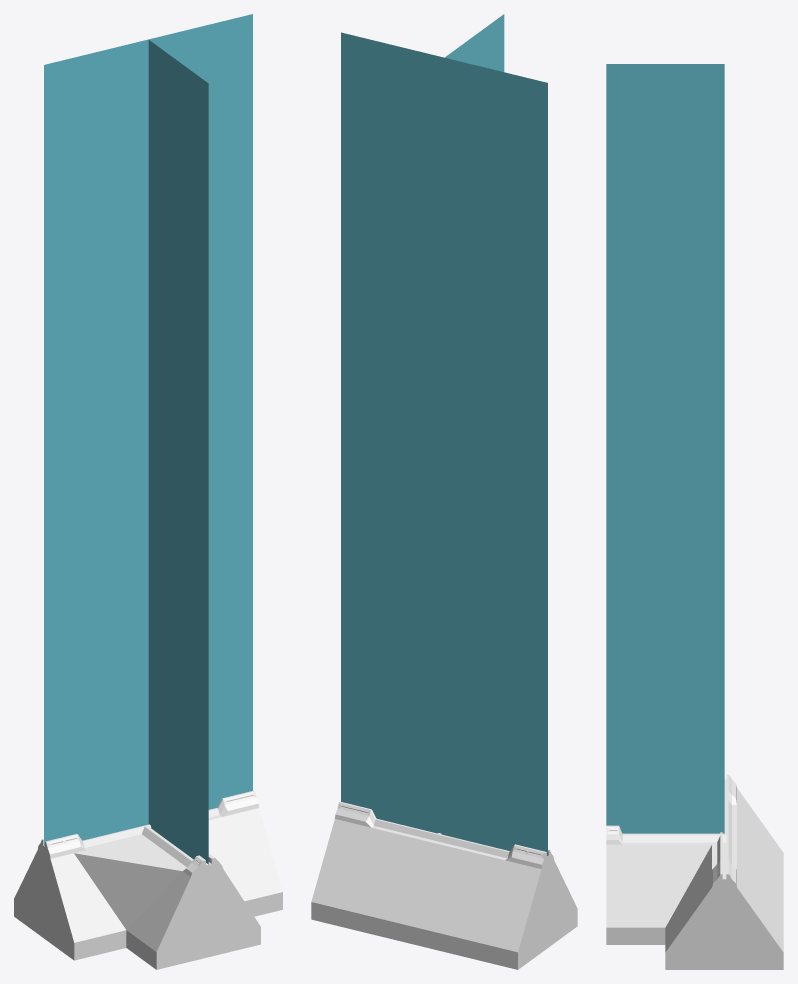
File: fence.glb
3 renders of one model, left to right at view 1: azimuth 30°, elevation 25°; view 2: azimuth 150°, elevation 25°; view 3: azimuth 270°, elevation 25°, orthographic. The views are drawn at different scales.
Visible parts, largest first — view 1: FenceCorner, Fence; view 2: Fence, FenceCorner; view 3: FenceCorner, Fence.
Boxes of the visible parts, left/top/right/bottom form: FenceCorner: left=14, top=40, right=260, bottom=969; Fence: left=15, top=14, right=282, bottom=960; Fence: left=311, top=32, right=547, bottom=969; FenceCorner: left=363, top=14, right=577, bottom=969; FenceCorner: left=606, top=64, right=780, bottom=944; Fence: left=665, top=774, right=783, bottom=969.
Bounding box in the file's own units: 2 × 8 × 1.5.
